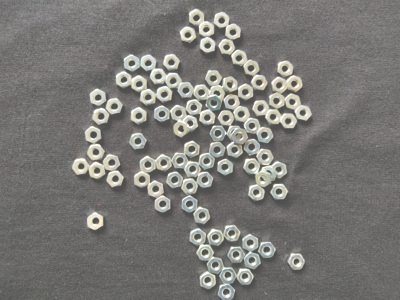nut: (227, 246, 246, 264), (200, 271, 217, 291), (88, 162, 106, 180), (207, 257, 225, 275), (207, 229, 225, 247), (223, 225, 241, 243), (288, 253, 306, 271), (87, 213, 104, 232), (258, 242, 277, 259), (90, 89, 107, 107), (103, 155, 121, 172), (107, 171, 125, 188), (148, 181, 165, 199), (181, 179, 199, 196), (194, 207, 211, 225), (220, 267, 237, 285), (244, 252, 261, 270), (242, 234, 259, 252), (231, 49, 248, 67), (233, 106, 251, 123), (244, 118, 262, 135), (252, 100, 270, 117), (256, 127, 274, 144), (256, 149, 274, 166), (248, 185, 266, 202), (255, 170, 272, 188), (261, 165, 279, 182), (295, 105, 313, 122), (270, 184, 289, 200), (85, 127, 102, 144), (93, 108, 110, 125), (106, 98, 123, 115), (167, 172, 184, 189), (237, 269, 254, 286), (172, 153, 189, 170), (197, 172, 214, 189), (199, 153, 216, 170), (209, 142, 226, 159), (199, 110, 216, 127), (206, 94, 223, 111), (244, 60, 261, 77), (219, 39, 236, 56), (227, 142, 244, 159), (244, 139, 261, 156), (277, 61, 294, 78), (285, 94, 302, 111), (72, 159, 90, 175), (87, 145, 105, 161), (155, 196, 171, 214), (140, 156, 156, 174), (116, 72, 132, 90), (124, 55, 140, 73), (132, 75, 148, 93), (156, 155, 172, 173), (182, 196, 198, 214), (190, 229, 206, 247), (197, 245, 215, 261), (218, 284, 236, 300), (165, 73, 183, 89), (174, 120, 190, 138), (177, 83, 195, 99), (251, 75, 269, 91), (189, 9, 205, 27), (223, 94, 241, 110), (231, 129, 249, 145), (265, 109, 283, 125), (280, 114, 298, 130), (287, 75, 303, 93), (130, 134, 147, 150), (131, 108, 147, 125), (140, 89, 156, 106), (141, 55, 157, 72), (150, 69, 167, 85), (154, 106, 170, 123), (157, 86, 173, 103), (164, 54, 180, 71), (184, 162, 201, 178), (184, 141, 200, 158), (183, 115, 199, 132), (186, 100, 203, 116), (210, 126, 227, 142), (205, 70, 222, 86), (222, 77, 238, 94), (238, 84, 254, 101), (225, 24, 241, 41), (214, 12, 230, 29), (200, 37, 216, 54), (199, 21, 215, 38), (180, 27, 197, 43), (244, 159, 261, 175), (269, 92, 285, 109), (272, 77, 288, 94), (171, 105, 187, 121), (194, 85, 210, 101), (210, 86, 226, 102), (135, 172, 150, 189), (218, 159, 233, 176), (218, 111, 235, 126), (272, 162, 287, 179), (227, 126, 242, 142)
